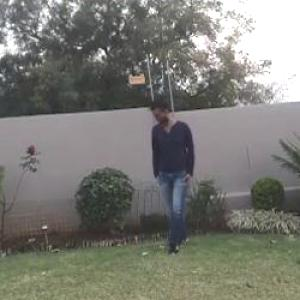follow: (150, 96, 202, 256)
